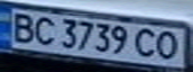3: (54, 17, 78, 50), (90, 20, 112, 54)
7: (75, 19, 93, 52)
9: (109, 24, 133, 56)
B: (6, 10, 39, 44)
C: (133, 26, 163, 60), (30, 14, 57, 47)
O: (151, 29, 184, 61)
